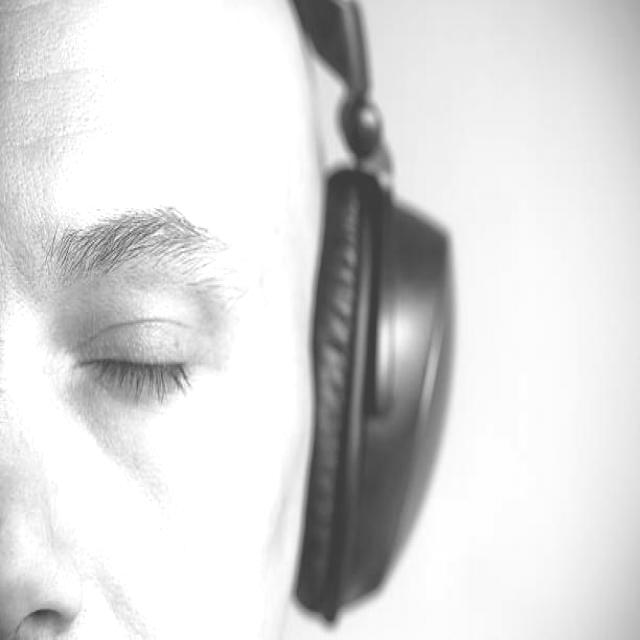real: (18, 194, 256, 428)
